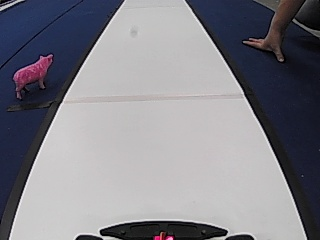pig: (10, 52, 54, 96)
